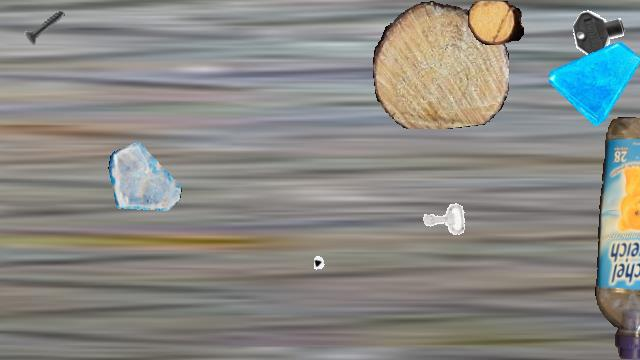glass: (549, 35, 639, 125), (108, 139, 182, 213)
metal: (314, 238, 376, 300), (569, 1, 631, 63), (19, 1, 71, 53), (417, 193, 469, 245)
plastic: (594, 117, 640, 359)
wood: (373, 1, 509, 129), (468, 1, 524, 45)
